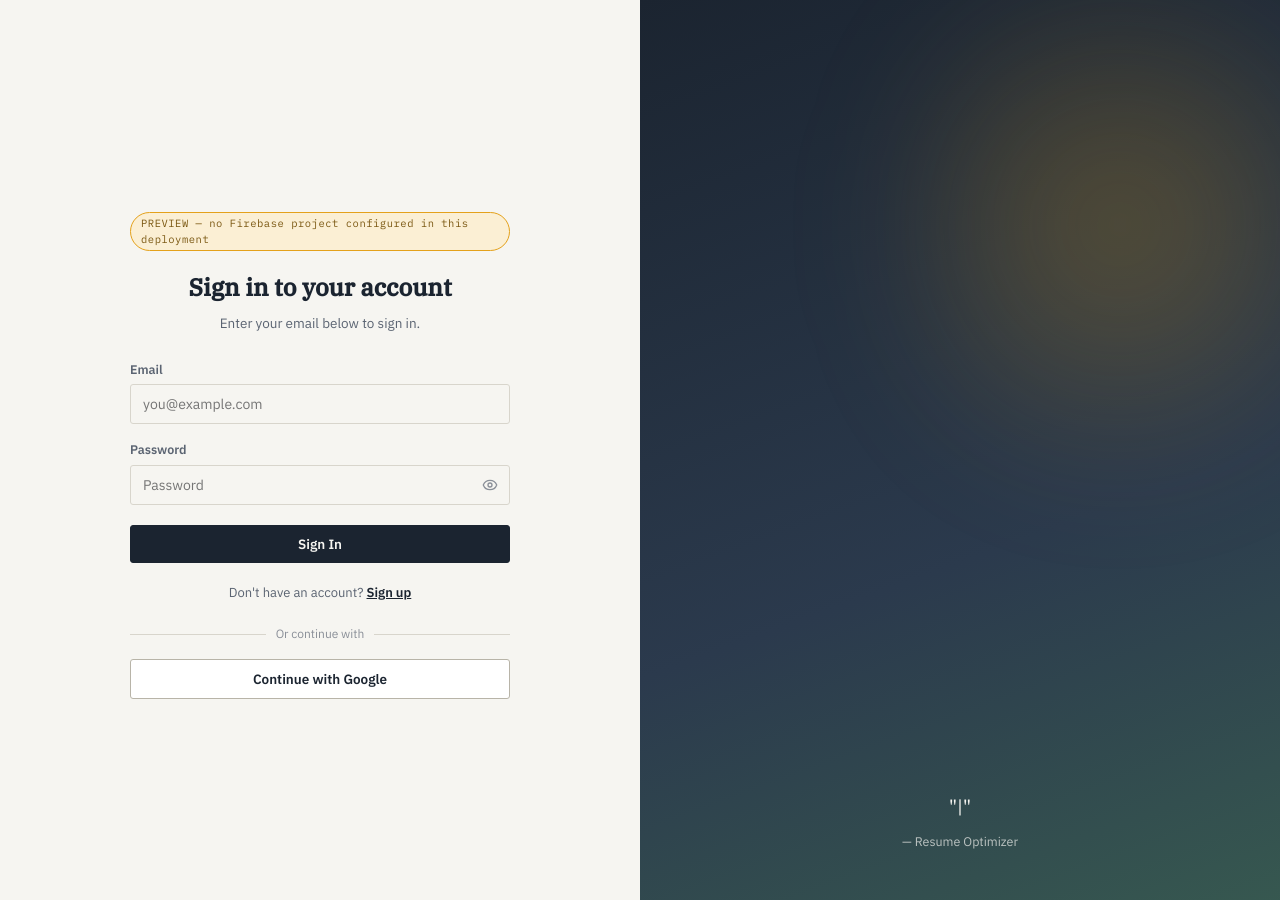
Test: AuthPage › clicking Google sign-in when not configured shows an honest message, not a silent no-op
The width and height of the screenshot is (1280, 900).
Click the button "Continue with Google" at (320, 679), box [130,659,510,699]
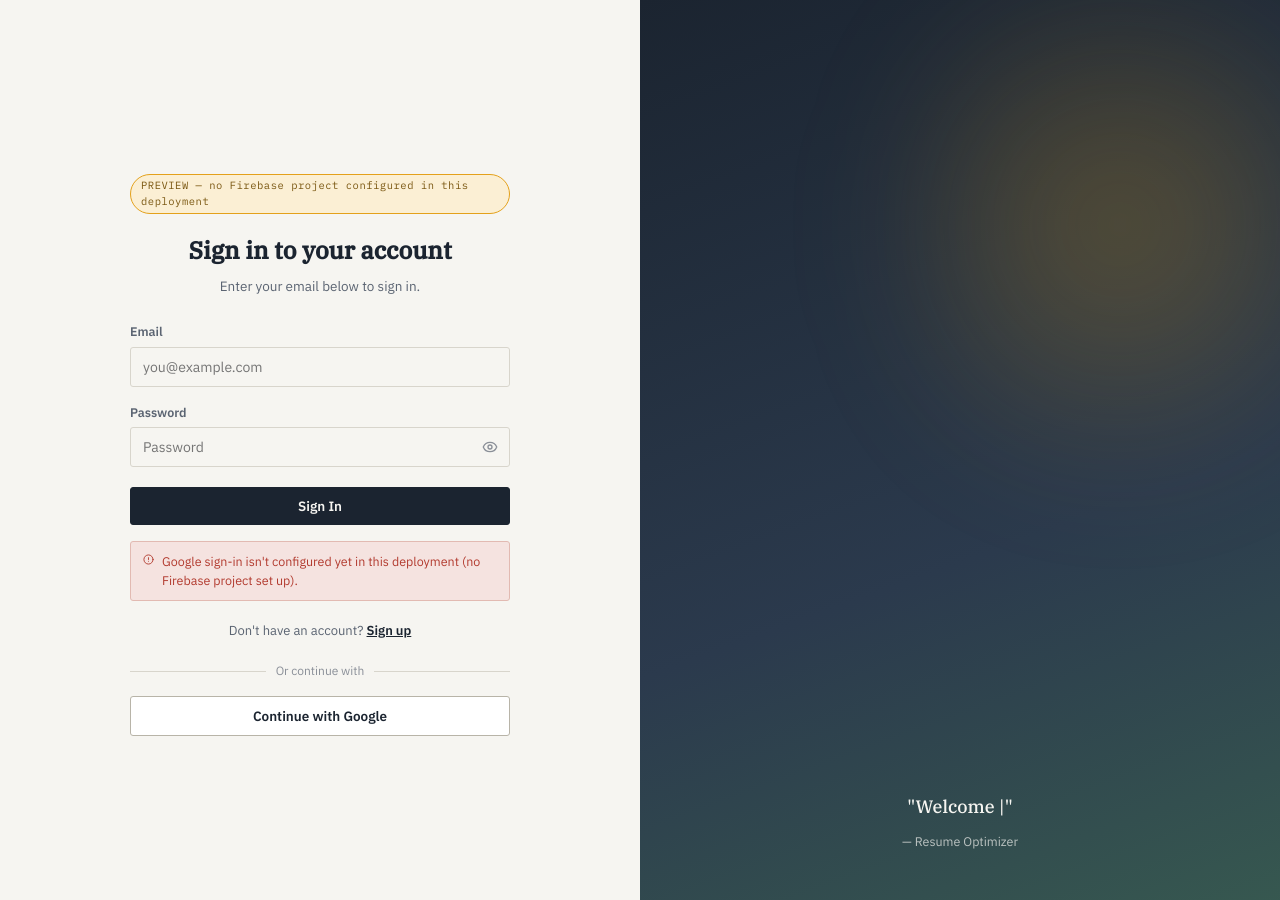
Check: the text "Google sign-in isn't configured yet" is shown, box [162,553,480,588]
